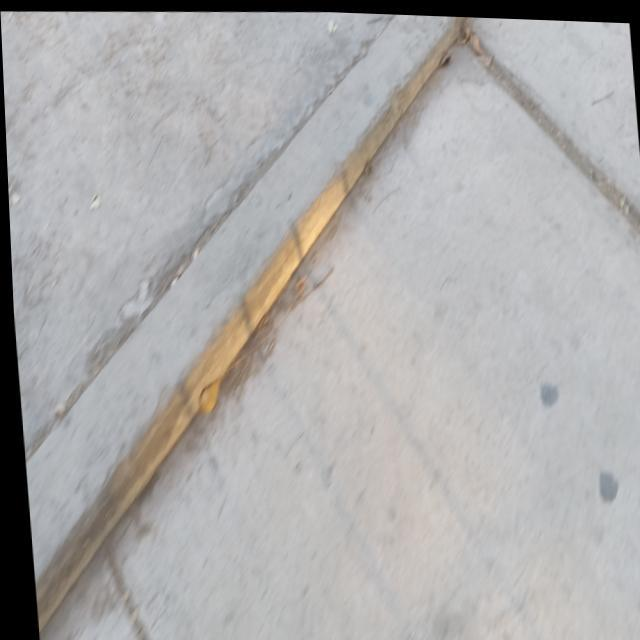bump: (65, 40, 421, 560)
